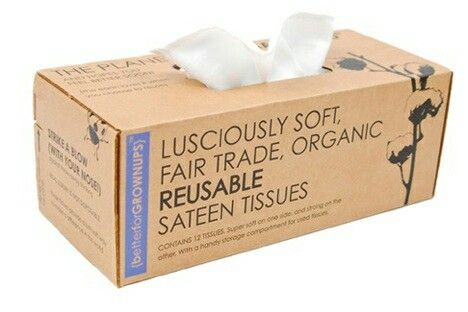Tissue: (148, 8, 335, 90)
